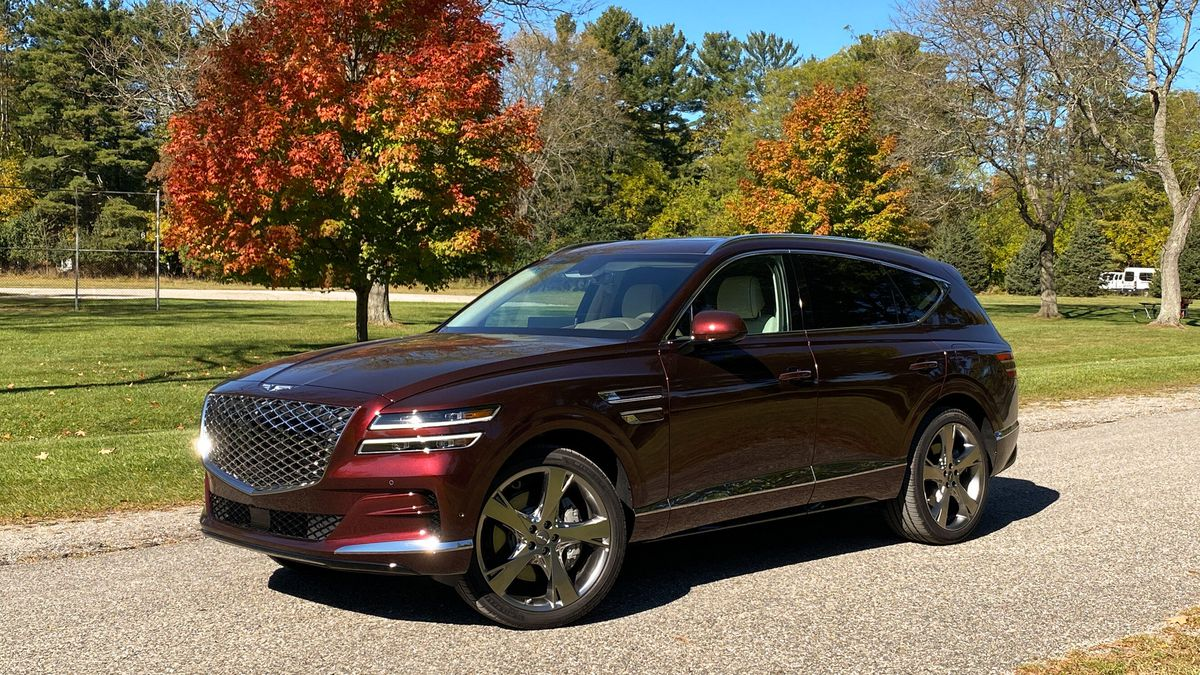car: (199, 233, 1020, 632)
